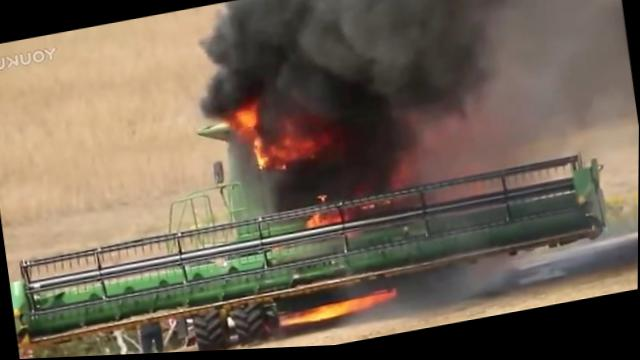fire: (280, 293, 390, 329), (250, 136, 270, 174), (233, 104, 260, 131), (309, 213, 342, 230)
